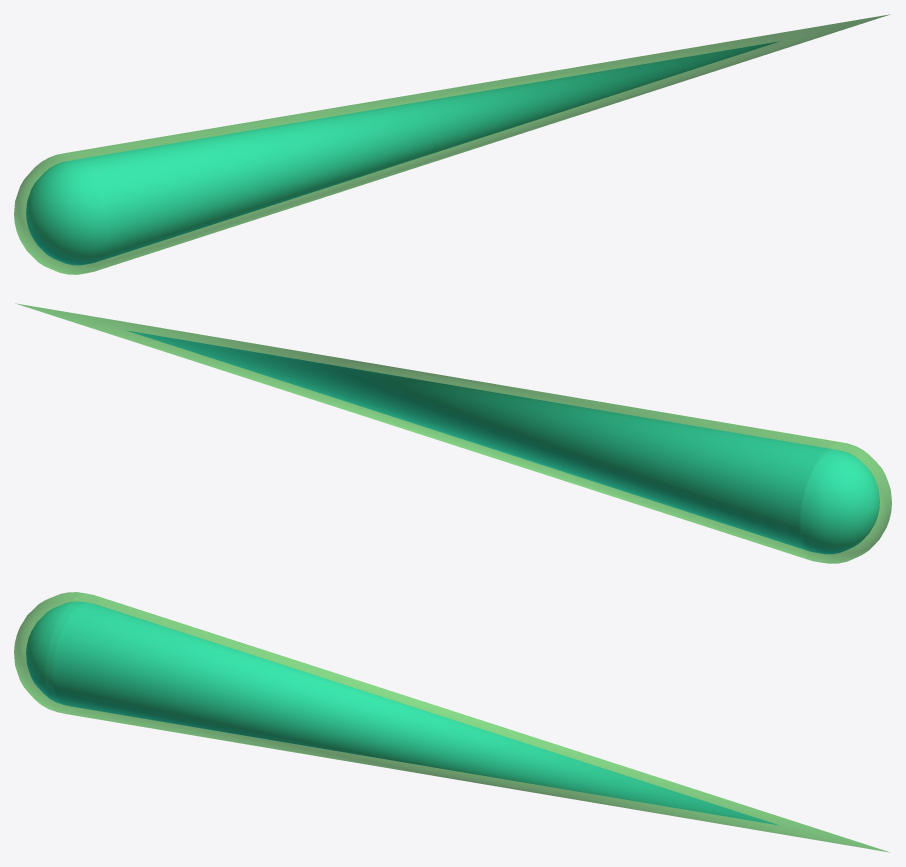
Rendered from bullet.fbx.
3 renders of one model, top to bottom at view 1: azimuth 30°, elevation 25°; view 2: azimuth 150°, elevation 25°; view 3: azimuth 330°, elevation 25°, orthographic.
Visible parts, largest first — view 1: polySurface5; view 2: polySurface5; view 3: polySurface5.
Boxes of the visible parts, x1,y1,x2,y2 form: polySurface5: [14, 14, 890, 274]; polySurface5: [15, 303, 891, 563]; polySurface5: [14, 592, 890, 852].
Size of the model in its own units: 29.07 by 3.58 by 3.58.
